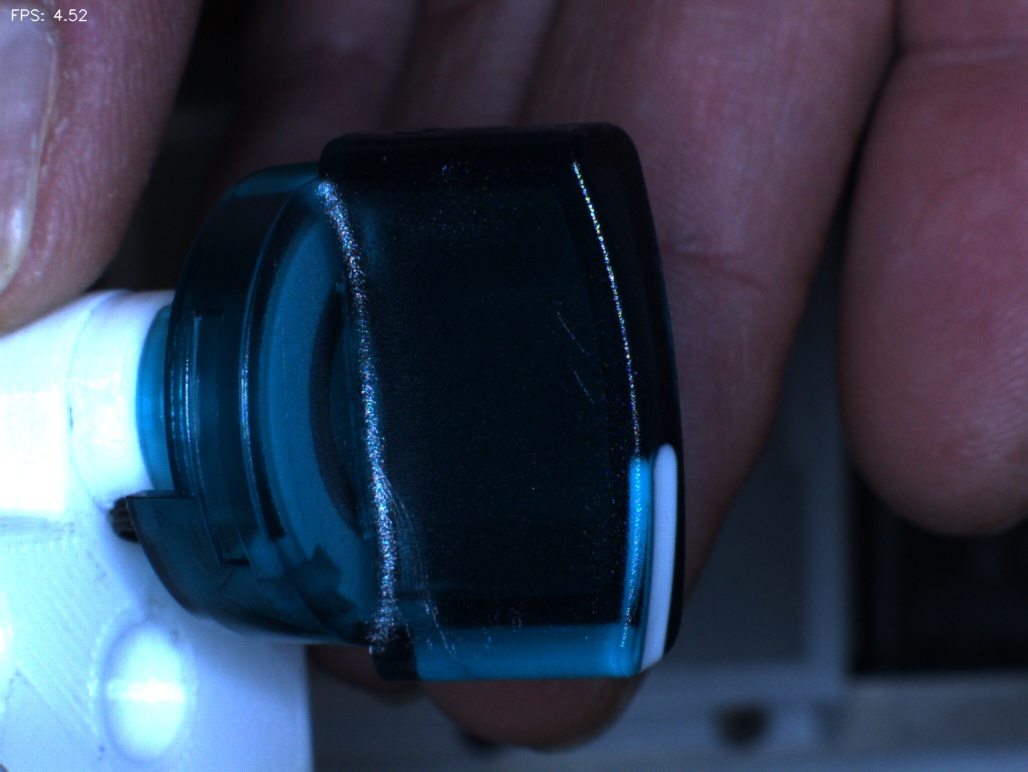Givrage: (381, 478, 460, 668), (532, 282, 613, 432)
